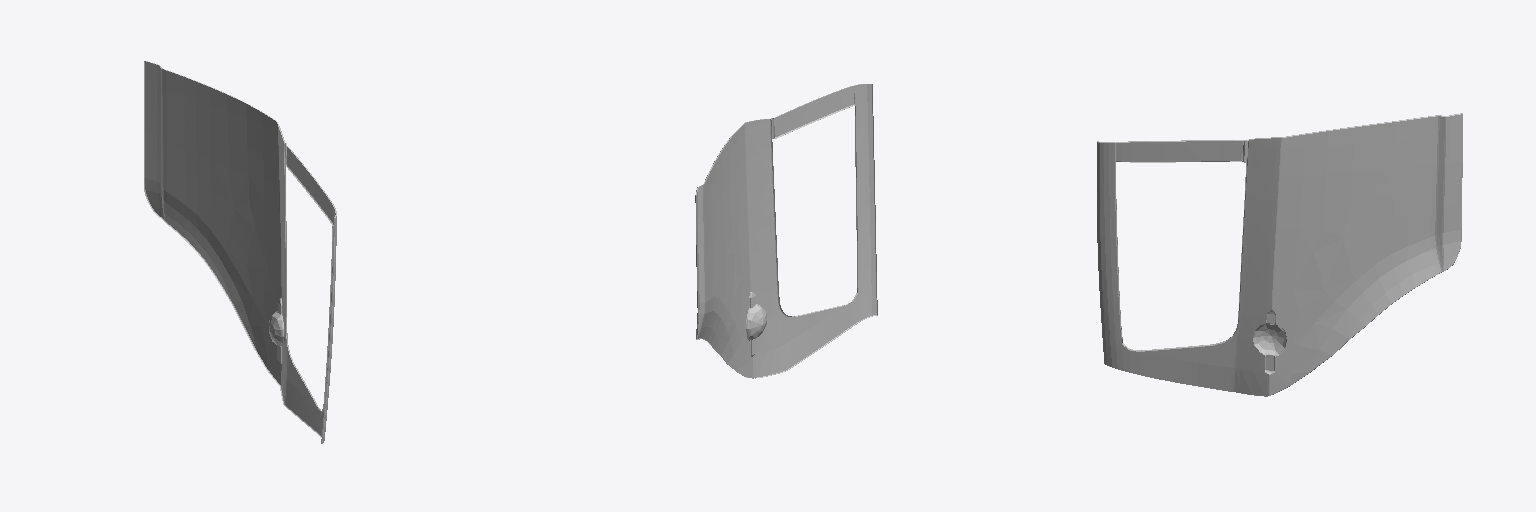
The model's file is door_lr.obj.
3 views of the same model, side by side, from view 1: azimuth 30°, elevation 25°; view 2: azimuth 150°, elevation 25°; view 3: azimuth 270°, elevation 25° (orthographic).
Visible parts, largest first — view 1: Door_Rr; view 2: Door_Rr; view 3: Door_Rr.
Boxes of the visible parts, x1,y1,x2,y2 form: Door_Rr: [144, 61, 336, 443]; Door_Rr: [695, 84, 877, 378]; Door_Rr: [1097, 113, 1462, 396].
Size of the model in its own units: 0.1458 by 0.8302 by 1.03.